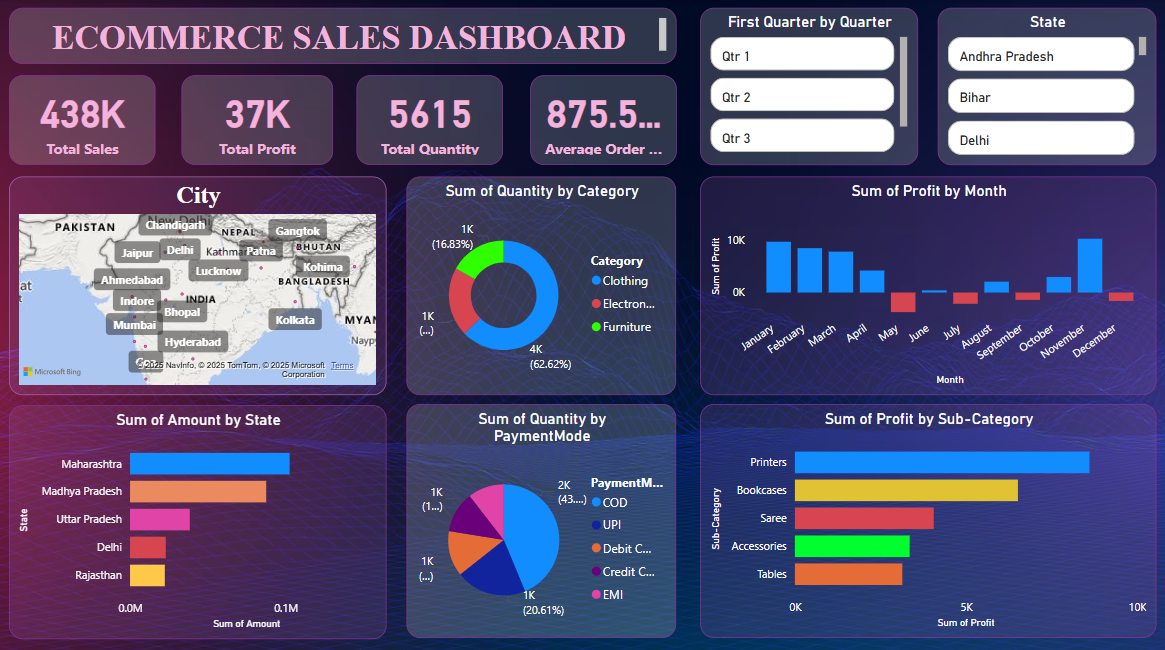

What the dashboard file says about the page in this screenshot:
{"tool":"powerbi","page":{"name":"DASHBOARD","canvas":[1280,720],"ordinal":7},"visuals":[{"type":"textbox","box":[11,9.6,732.8,61.7],"z":0},{"type":"columnChart","fields":{"Y":["Sum(Details.Profit)"],"Category":["Orders.Order Date.Variation.Date Hierarchy.Month"]},"box":[769.8,194.9,500.9,240.1],"z":1000},{"type":"clusteredBarChart","fields":{"Y":["Sum(Details.Profit)"],"Category":["Details.Sub-Category"]},"box":[769.8,444.6,500.9,256.6],"z":2000},{"type":"donutChart","fields":{"Category":["Details.Category"],"Y":["Sum(Details.Quantity)"]},"box":[447.3,194.9,296.4,240.1],"z":3000},{"type":"pieChart","fields":{"Category":["Details.PaymentMode"],"Y":["Sum(Details.Quantity)"]},"box":[447.3,444.6,296.4,256.6],"z":4000},{"type":"map","fields":{"Category":["Orders.City","Orders.State"]},"box":[11,194.9,414.4,240.1],"z":5000},{"type":"card","fields":{"Values":["Details.Total Sales"]},"box":[11,83.7,160.5,98.8],"z":6000},{"type":"card","fields":{"Values":["Details.Total Profit"]},"box":[200.3,83.7,166,98.8],"z":7000},{"type":"card","fields":{"Values":["Details.Total Quantity"]},"box":[392.5,83.7,160.5,98.8],"z":8000},{"type":"card","fields":{"Values":["Details.Average Order Value"]},"box":[583.2,83.7,160.5,98.8],"z":9000},{"type":"clusteredBarChart","fields":{"Category":["Orders.State"],"Y":["Sum(Details.Amount)"]},"box":[11,446,414.4,256.6],"z":10000},{"type":"advancedSlicerVisual","fields":{"Values":["Orders.Order Date.Variation.Date Hierarchy.Quarter"]},"box":[769.7,9.7,238.9,172.5],"z":11000},{"type":"advancedSlicerVisual","fields":{"Values":["Orders.State"]},"box":[1030.5,9.6,240.1,172.9],"z":12000}]}

Visuals, with their boxes in screenshot pixels (x1, y1, x2, y2), scaled from the page's 1280x720 canvas onto the 1165x650 screenshot:
textbox: bbox=[10, 9, 677, 64]
columnChart - Sum(Details.Profit) x Orders.Order Date.Variation.Date Hierarchy.Month: bbox=[701, 176, 1157, 393]
clusteredBarChart - Sum(Details.Profit) x Details.Sub-Category: bbox=[701, 401, 1157, 633]
donutChart - Details.Category x Sum(Details.Quantity): bbox=[407, 176, 677, 393]
pieChart - Details.PaymentMode x Sum(Details.Quantity): bbox=[407, 401, 677, 633]
map - Orders.City x Orders.State: bbox=[10, 176, 387, 393]
card - Details.Total Sales: bbox=[10, 76, 156, 165]
card - Details.Total Profit: bbox=[182, 76, 333, 165]
card - Details.Total Quantity: bbox=[357, 76, 503, 165]
card - Details.Average Order Value: bbox=[531, 76, 677, 165]
clusteredBarChart - Orders.State x Sum(Details.Amount): bbox=[10, 403, 387, 634]
advancedSlicerVisual - Orders.Order Date.Variation.Date Hierarchy.Quarter: bbox=[701, 9, 918, 164]
advancedSlicerVisual - Orders.State: bbox=[938, 9, 1156, 165]
